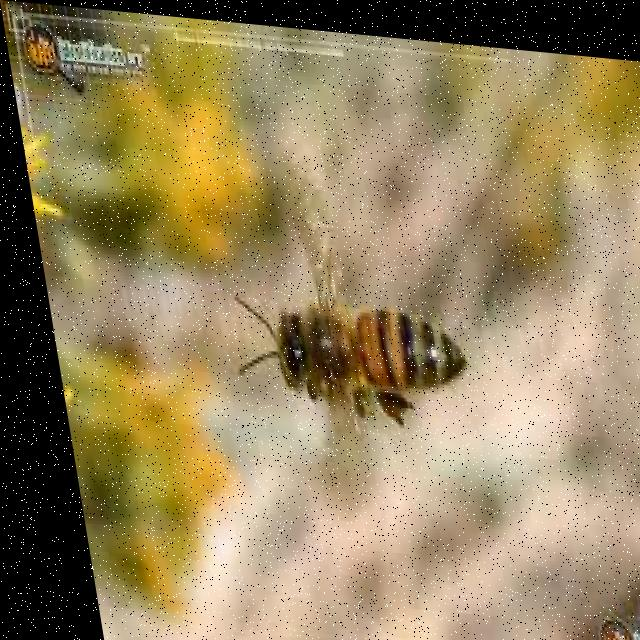Apis-mellifera-scutellata: (202, 241, 476, 478)
